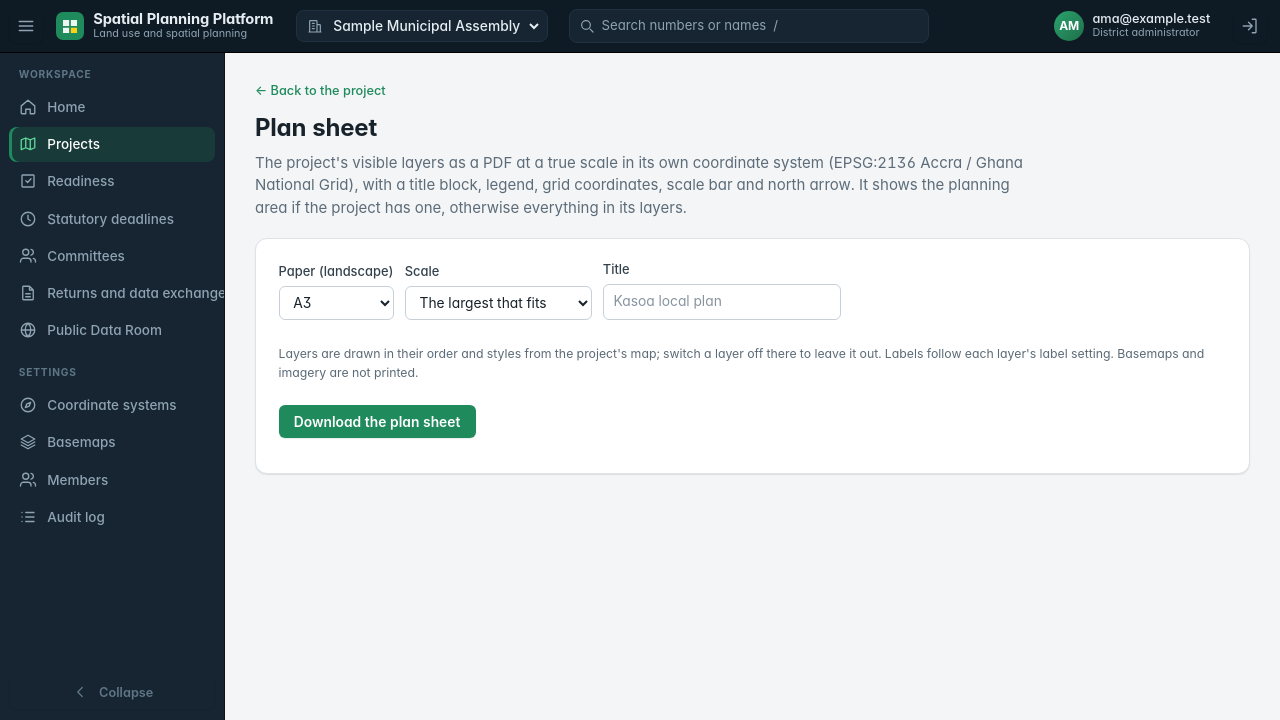
Test: plan sheet › asks for the paper, scale and title, and says what scale the sheet was drawn at
expect the text "EPSG:2136 Accra / Ghana National Grid" is shown: met, box [255, 152, 1023, 194]
Select "A1" in the dropdown labelled "Paper" at point(336, 303), box [278, 286, 394, 320]
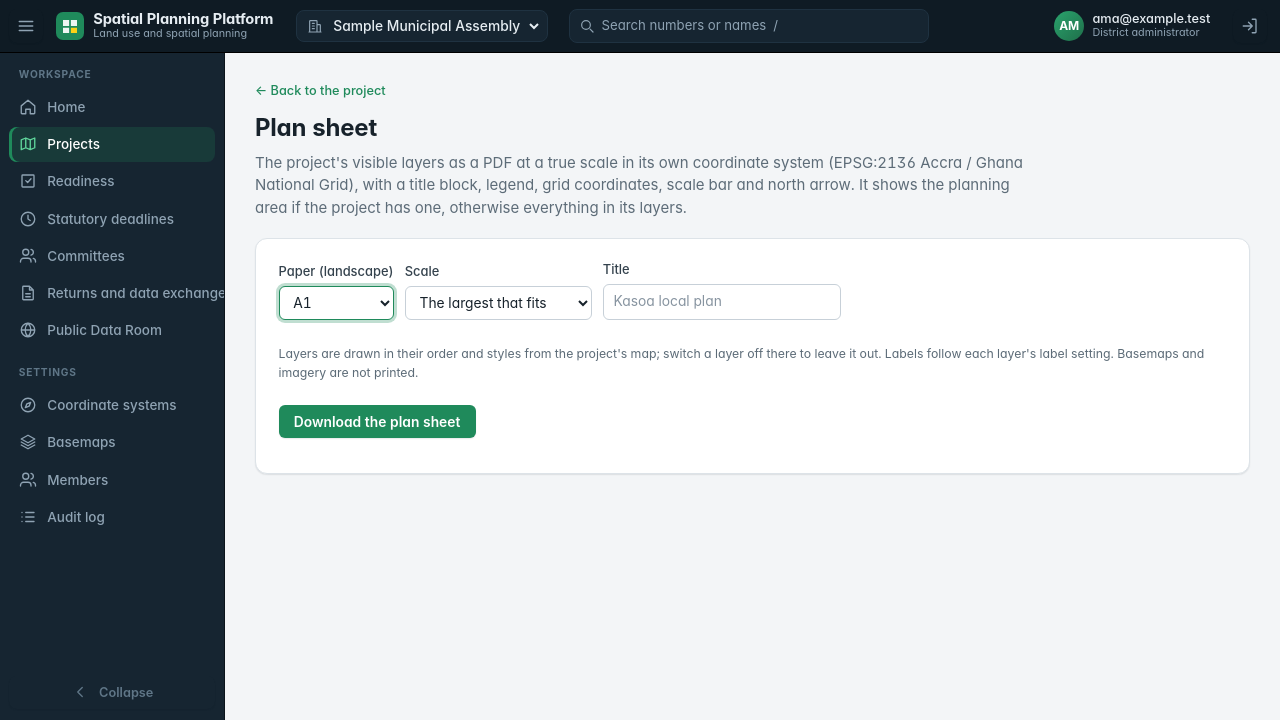
Select "1:2,500" in the dropdown labelled "Scale" at point(498, 303), box [405, 286, 592, 320]
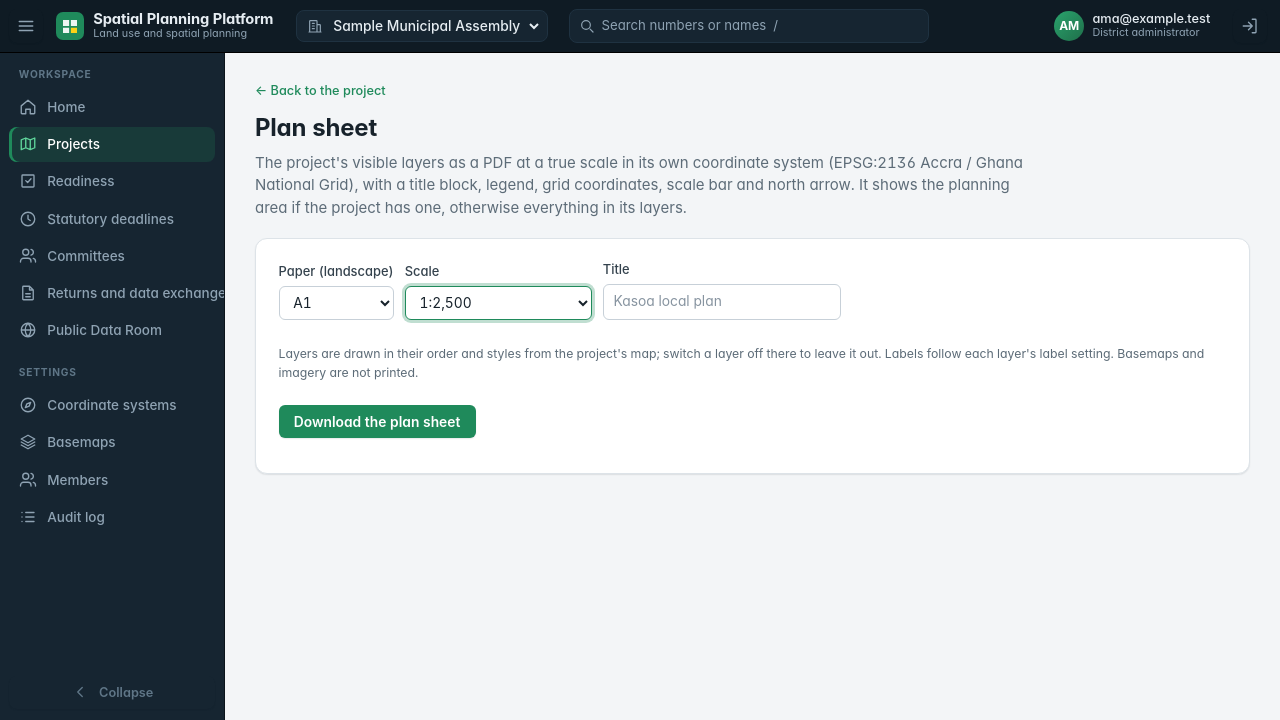
Type "Base map" into the field labelled "Title" at point(722, 302), box [603, 284, 841, 320]
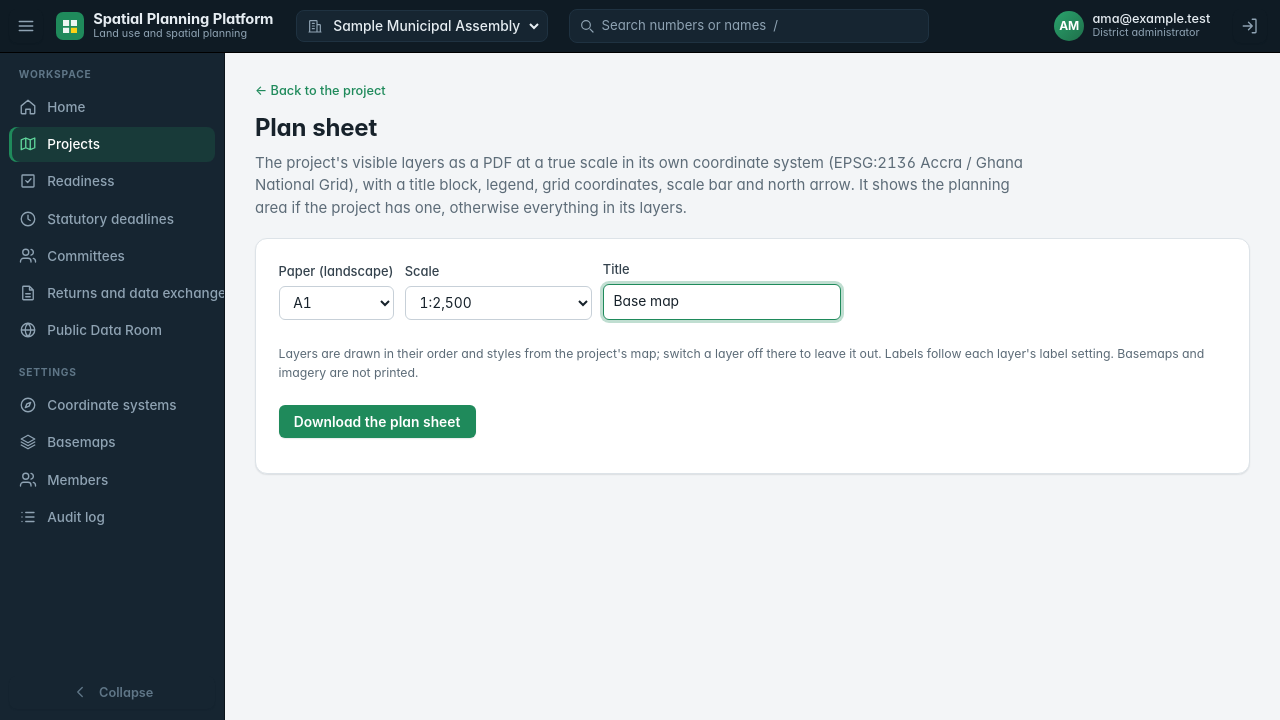
Click the button "Download the plan sheet" at point(377, 422), box [278, 405, 476, 438]
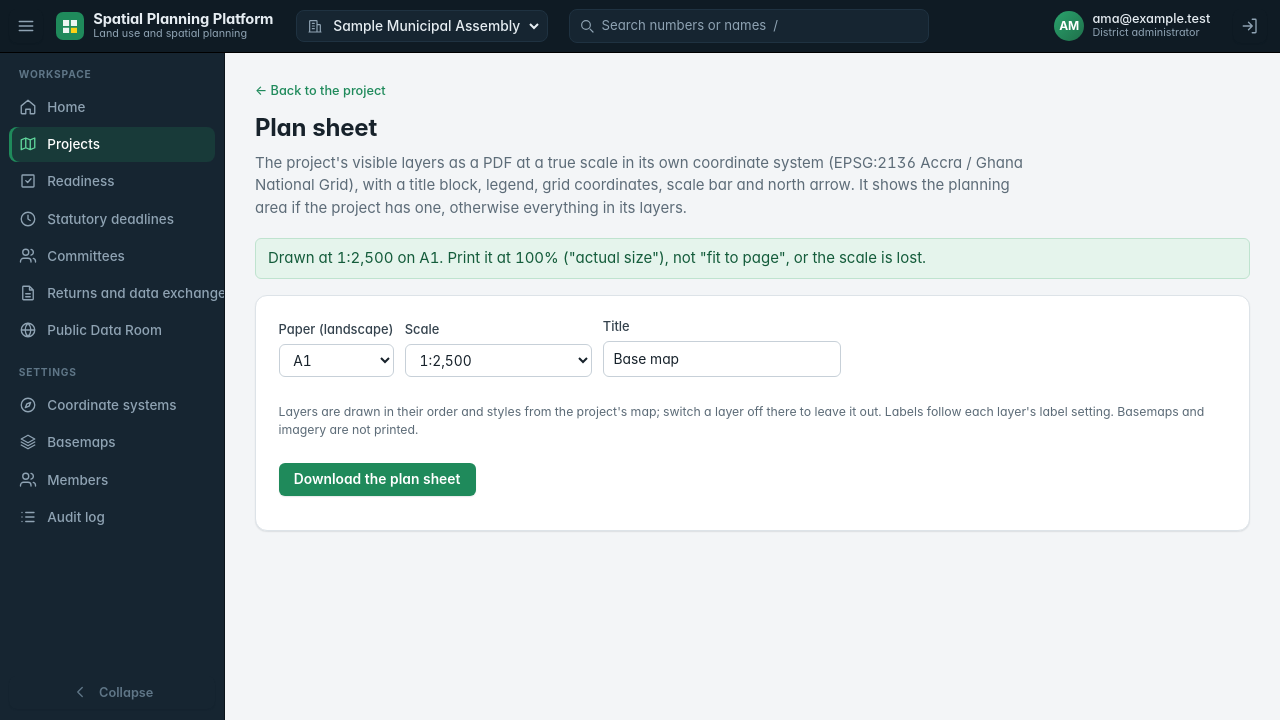
expect the message shows "Drawn at 1:2,500 on A1.": met, box [268, 248, 926, 267]
